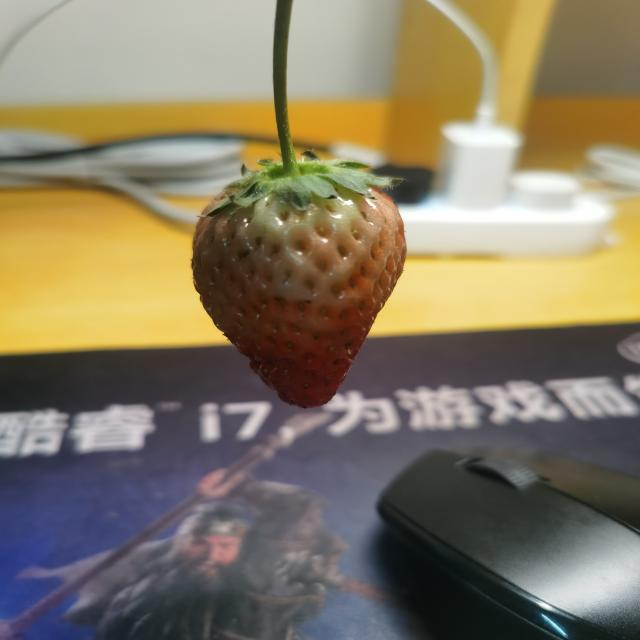stem: (273, 49, 307, 181)
strawberry: (191, 159, 409, 409)
